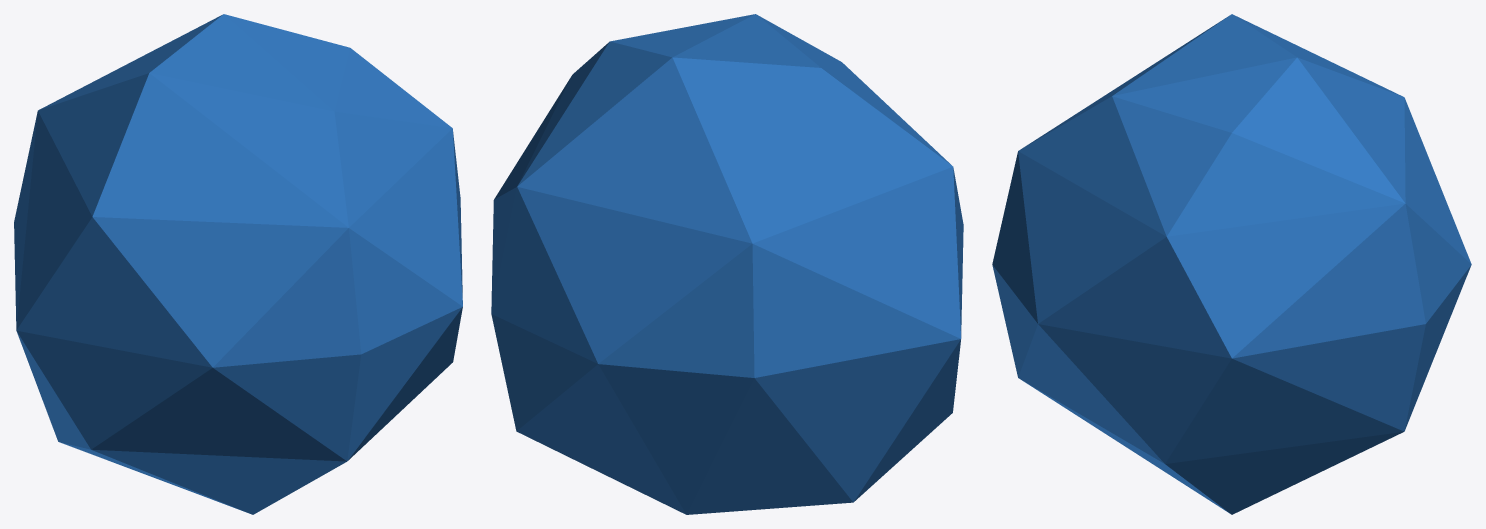
File: exhaust_blob.fbx
3 views of the same model, side by side, from view 1: azimuth 30°, elevation 25°; view 2: azimuth 150°, elevation 25°; view 3: azimuth 270°, elevation 25° (orthographic). The views are drawn at different scales.
Parts seen in each view (by area): view 1: Exhaust Blob; view 2: Exhaust Blob; view 3: Exhaust Blob.
Boxes of the visible parts, x1,y1,x2,y2 form: Exhaust Blob: (14,14,462,514); Exhaust Blob: (491,14,963,514); Exhaust Blob: (992,14,1471,514).
Bounding box in the file's own units: 209 × 199 × 200.
